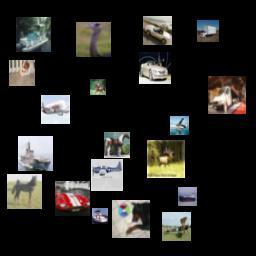airplane: (91, 159, 123, 191), (41, 95, 70, 124), (162, 212, 191, 241), (170, 116, 189, 135)
automobile: (55, 181, 90, 216), (139, 52, 171, 84), (143, 16, 172, 45)
bird: (76, 22, 111, 57)
deer: (147, 140, 185, 178)
dog: (112, 200, 150, 238), (9, 60, 35, 86)
ship: (18, 136, 53, 171), (16, 17, 51, 52), (178, 187, 197, 206), (92, 208, 108, 224)
truck: (208, 76, 246, 114), (197, 20, 219, 42)
